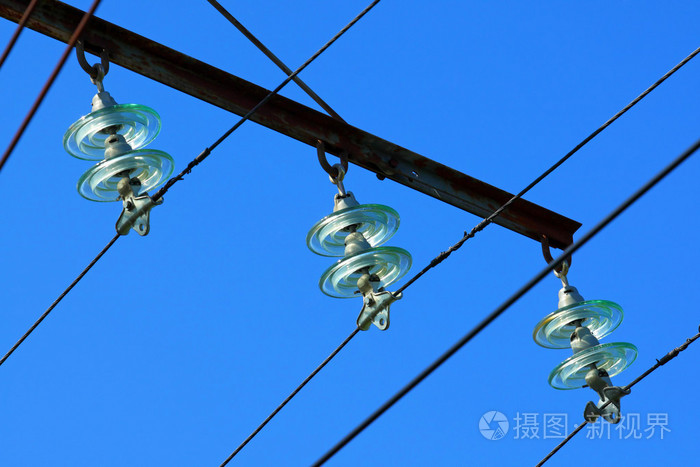insulator: (64, 102, 177, 202), (305, 205, 415, 297), (534, 301, 639, 389)
